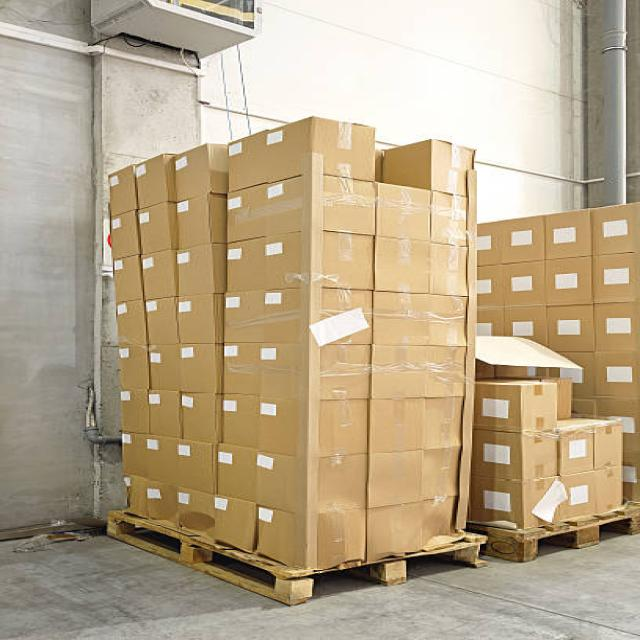Wooden-Pallets: (76, 500, 497, 618), (514, 499, 640, 581)
